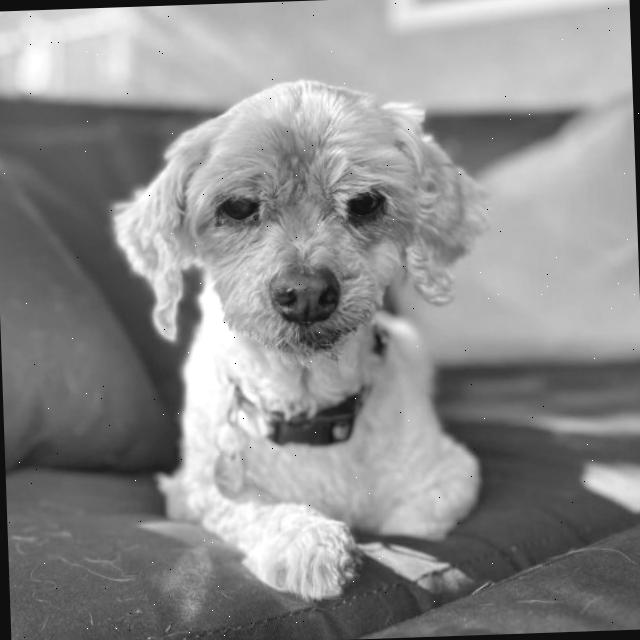Poodle_dog: (99, 63, 502, 376)
